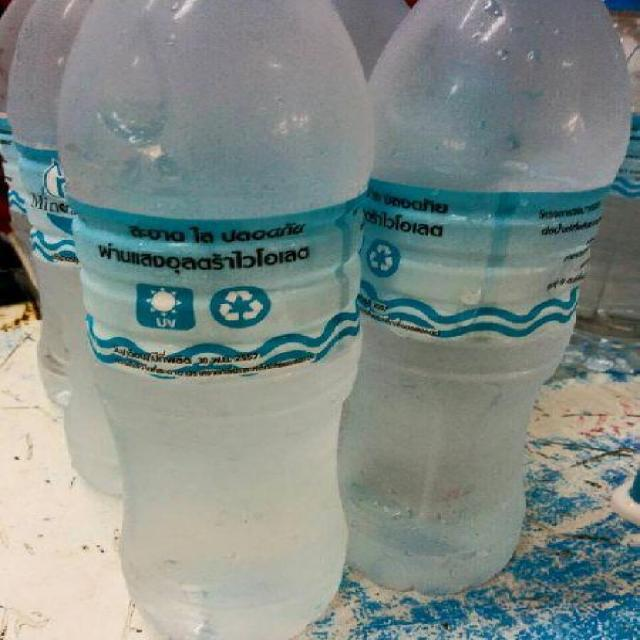bottle: (43, 31, 366, 640), (332, 0, 595, 614)
